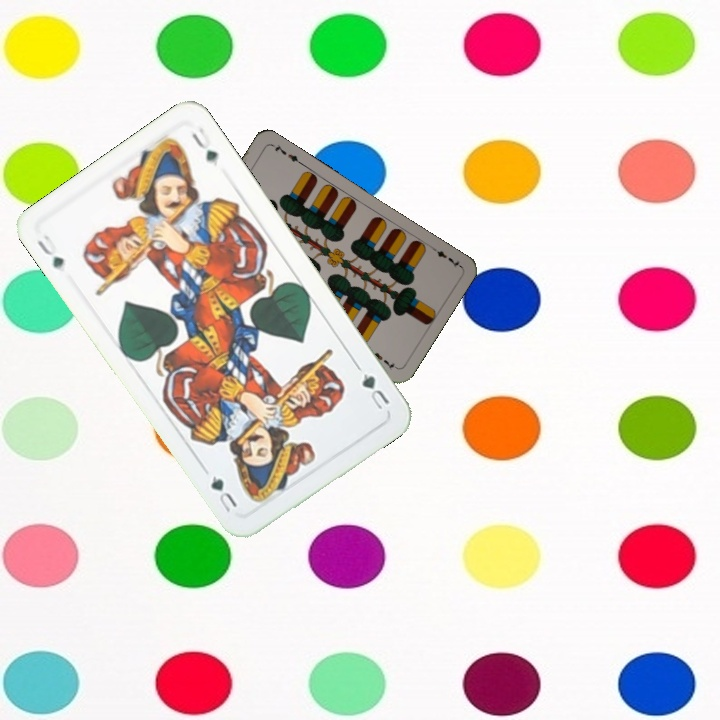E7: (427, 242, 463, 270)
GU: (358, 369, 393, 412), (33, 230, 67, 273)
